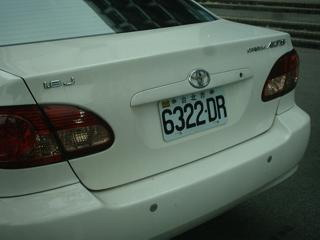plate: (155, 88, 231, 140)
